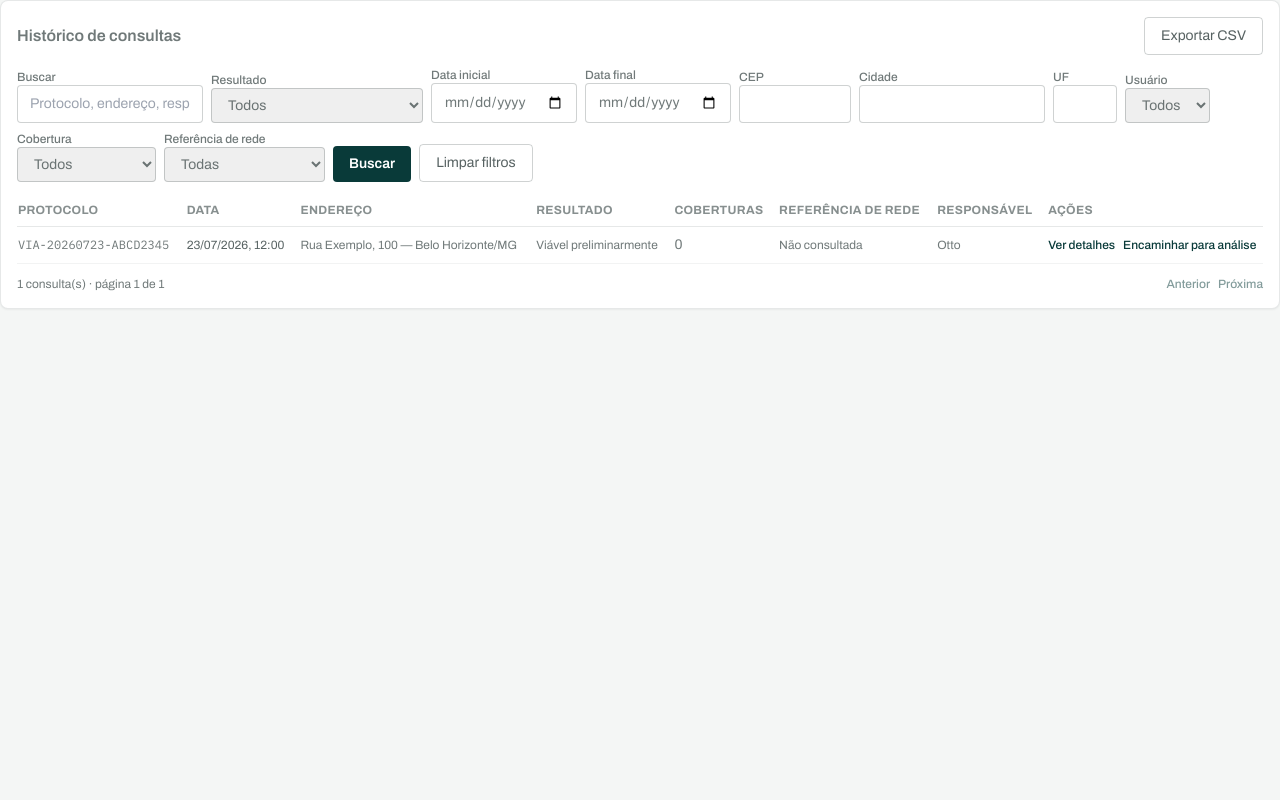
it: locationType nos detalhes do histórico › mostra o rótulo pt-BR do tipo de localização
What coordinates should you click on to do the following:
click the button "Ver detalhes"
I would click on:
 (1082, 245)
Its box is [1048,237,1115,253].
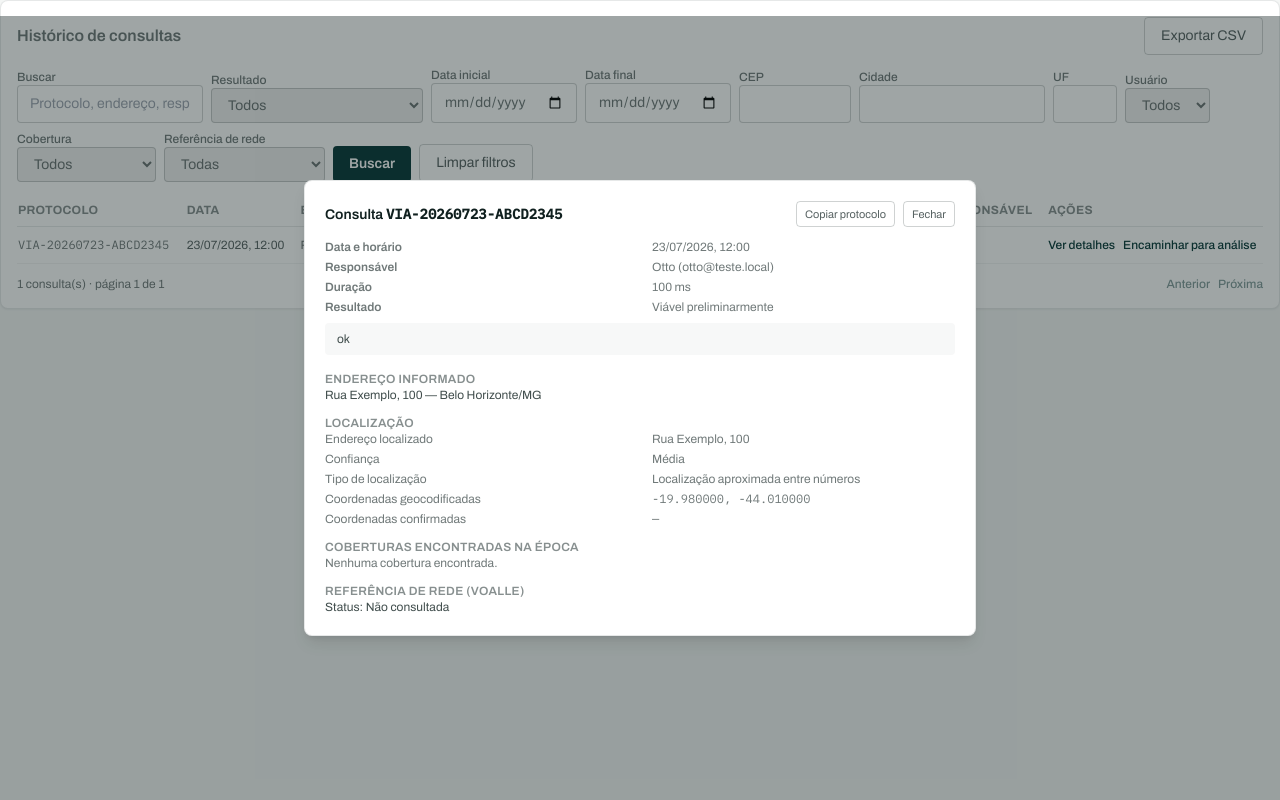
Expected: the dialog shows "Localização aproximada entre números", [652,472,860,486]
